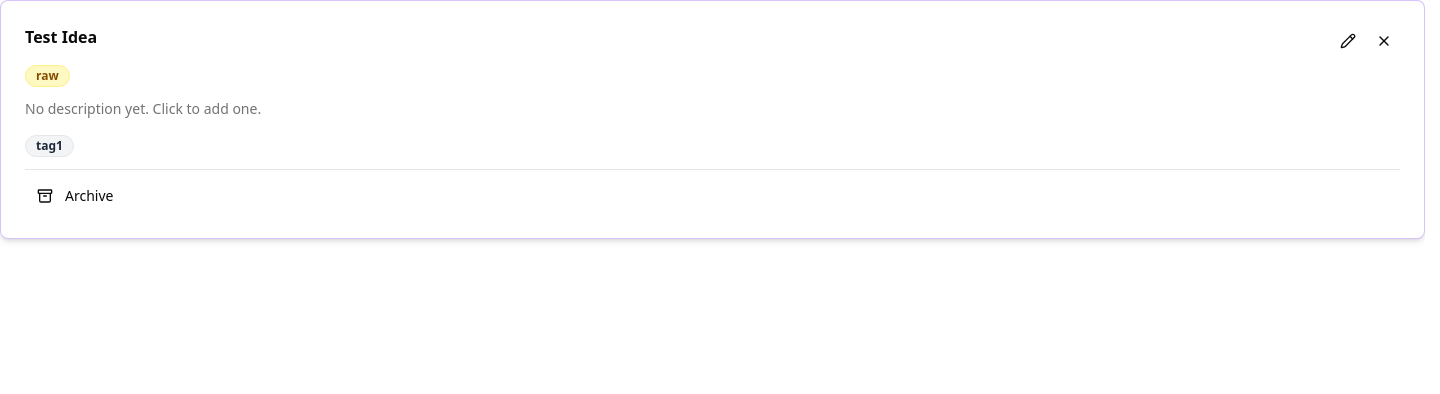
IdeaCard › clicking 'No description yet' on an expanded idea with no body enters edit mode
Click the text "No description yet. Click to add one.".
click(143, 108)  # box [25,99,261,118]
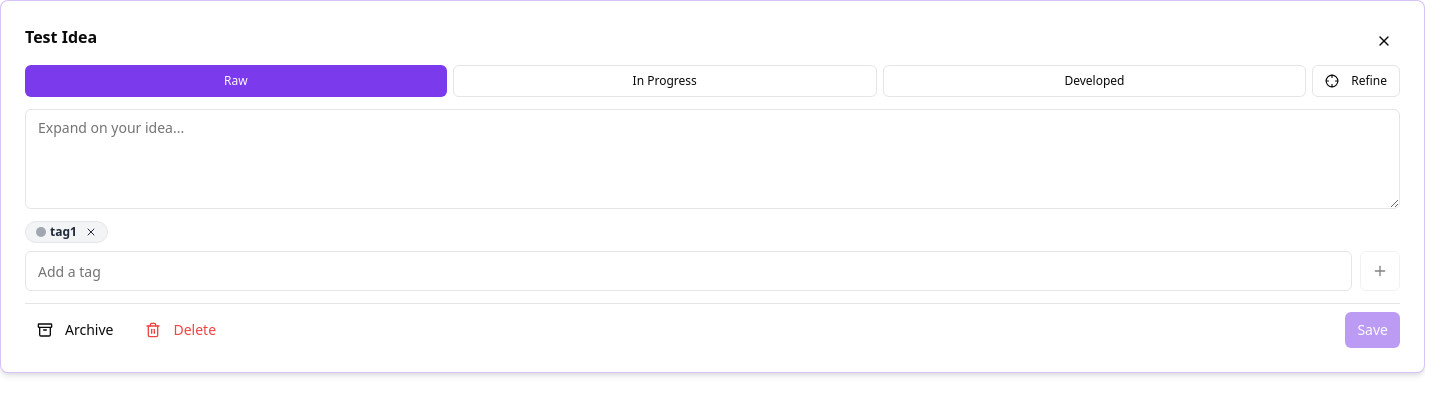
Check: the text box named "Idea body" is shown, box [25,109,1400,209]
